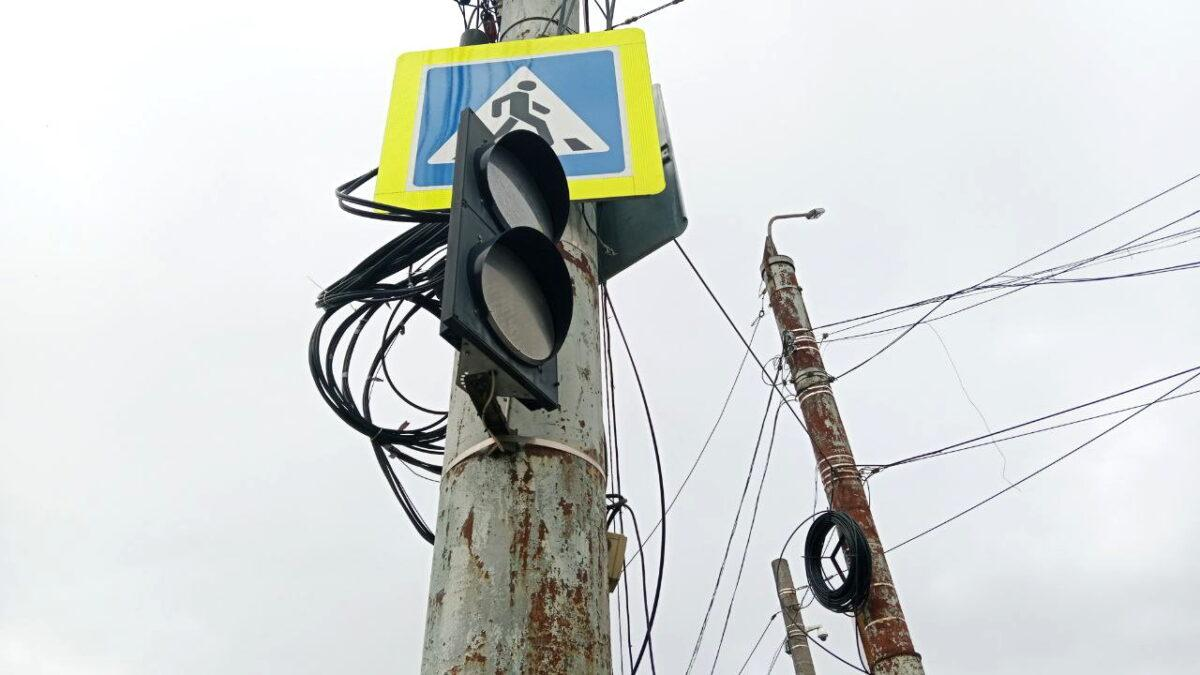off traffic light: (439, 106, 574, 414)
road_sign: (375, 28, 666, 210)
